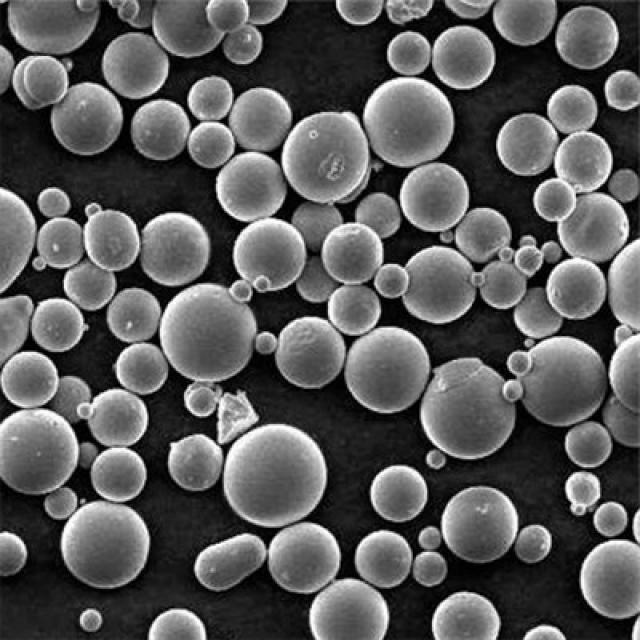cells: (221, 424, 328, 526), (159, 283, 261, 382), (421, 360, 516, 460), (281, 111, 370, 204), (361, 81, 451, 170), (517, 340, 607, 428), (61, 502, 150, 590), (343, 328, 430, 413), (0, 408, 79, 495), (402, 246, 476, 326), (272, 315, 347, 391), (134, 214, 212, 286), (211, 152, 289, 224), (234, 218, 308, 293), (444, 488, 518, 562), (50, 84, 124, 156), (577, 537, 639, 621), (306, 579, 391, 640), (556, 191, 630, 260), (268, 524, 340, 594), (400, 161, 470, 231), (227, 86, 297, 156), (9, 1, 96, 54), (193, 534, 265, 592), (153, 0, 225, 58), (492, 115, 560, 176), (554, 7, 618, 70), (87, 386, 149, 451), (105, 34, 166, 98), (428, 589, 502, 640), (131, 99, 191, 161), (352, 530, 414, 590), (433, 28, 494, 88), (546, 258, 606, 319), (88, 445, 148, 505), (0, 350, 60, 410), (28, 296, 87, 356), (322, 226, 381, 285), (84, 209, 140, 271), (555, 133, 613, 191), (371, 464, 428, 523), (105, 286, 163, 342), (491, 0, 558, 48), (12, 55, 68, 111), (326, 282, 382, 338), (454, 207, 510, 262), (288, 200, 345, 254), (168, 436, 222, 490), (510, 286, 564, 336), (62, 263, 118, 310), (116, 345, 167, 395), (479, 261, 529, 311), (35, 220, 87, 268), (21, 52, 67, 105), (548, 86, 598, 134), (354, 190, 402, 240), (44, 373, 92, 422), (294, 254, 338, 306), (562, 422, 612, 466), (215, 392, 258, 443), (188, 121, 234, 168), (531, 178, 577, 223), (188, 76, 232, 121), (148, 607, 206, 640), (386, 32, 430, 73), (220, 26, 264, 66), (513, 522, 553, 565), (605, 71, 640, 114), (564, 472, 599, 515), (108, 0, 156, 31), (371, 264, 409, 300), (206, 0, 248, 32), (590, 502, 628, 537), (412, 551, 447, 588), (606, 166, 640, 204), (44, 484, 78, 521), (386, 0, 434, 26), (334, 0, 382, 26), (0, 532, 27, 578), (185, 386, 218, 418), (247, 0, 287, 25), (38, 188, 71, 218), (513, 246, 545, 275), (253, 328, 279, 358), (505, 349, 531, 379), (72, 440, 98, 468), (418, 527, 441, 552), (610, 323, 636, 345), (77, 611, 105, 631), (228, 282, 252, 304), (502, 382, 524, 404), (540, 240, 561, 262), (497, 243, 514, 266), (76, 401, 95, 421), (426, 450, 447, 468), (437, 228, 458, 246), (83, 202, 102, 220), (252, 276, 272, 292), (516, 234, 536, 250), (468, 272, 483, 288), (31, 256, 46, 269)
